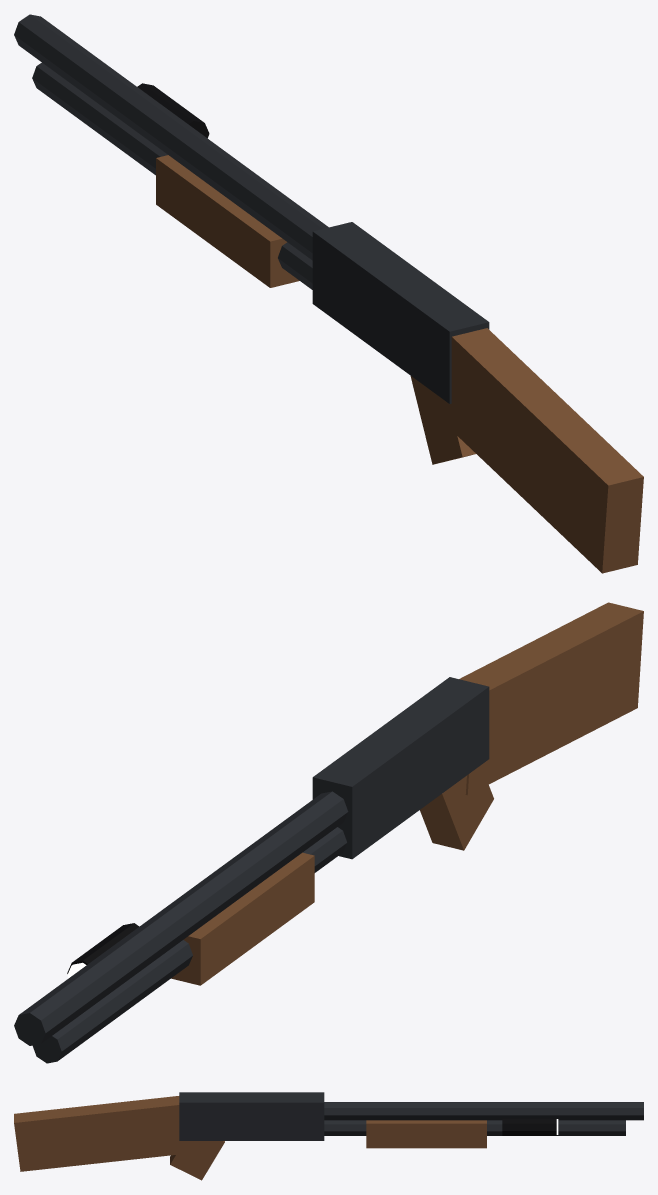
The model's file is shotgun.glb.
3 views of the same model, one above another, from view 1: azimuth 30°, elevation 25°; view 2: azimuth 150°, elevation 25°; view 3: azimuth 270°, elevation 25° (orthographic). The views are drawn at different scales.
Visible parts, largest first — view 1: shotgun_Body, shotgun_Att_ExtMag, shotgun_Att_Flashlight; view 2: shotgun_Body, shotgun_Att_ExtMag, shotgun_Att_Flashlight; view 3: shotgun_Body, shotgun_Att_Flashlight, shotgun_Att_ExtMag.
Boxes of the visible parts, x1=… form: shotgun_Body: x1=14, y1=14, x2=643, y2=573; shotgun_Att_ExtMag: x1=32, y1=62, x2=109, y2=137; shotgun_Att_Flashlight: x1=137, y1=83, x2=209, y2=138; shotgun_Body: x1=14, y1=602, x2=643, y2=1045; shotgun_Att_ExtMag: x1=33, y1=986, x2=130, y2=1063; shotgun_Att_Flashlight: x1=67, y1=923, x2=139, y2=977; shotgun_Body: x1=14, y1=1092, x2=643, y2=1180; shotgun_Att_Flashlight: x1=502, y1=1118, x2=558, y2=1135; shotgun_Att_ExtMag: x1=558, y1=1120, x2=625, y2=1135.
Size of the model in its own units: 0.0685 by 0.1445 by 1.04.
